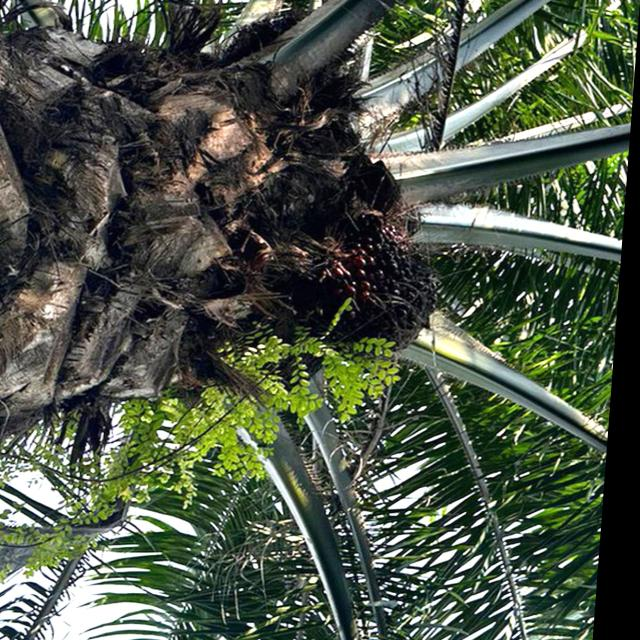ripe: (291, 214, 433, 350)
